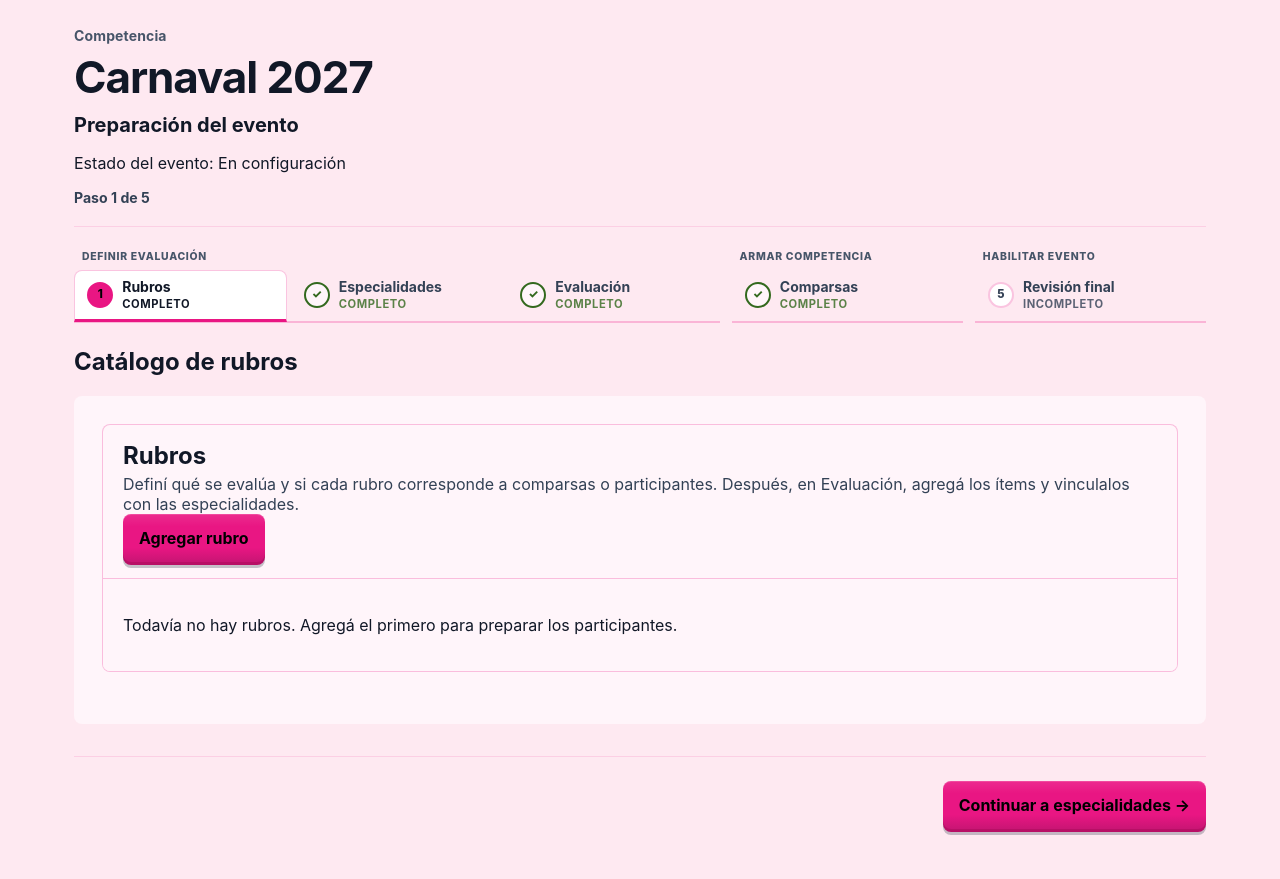
Test: beforeunload solo avisa mientras hay cambios; guardar libera la guardia y conserva POST legado
The width and height of the screenshot is (1280, 879).
Click the button "Agregar rubro" at [194, 538], box [123,514,264,562]
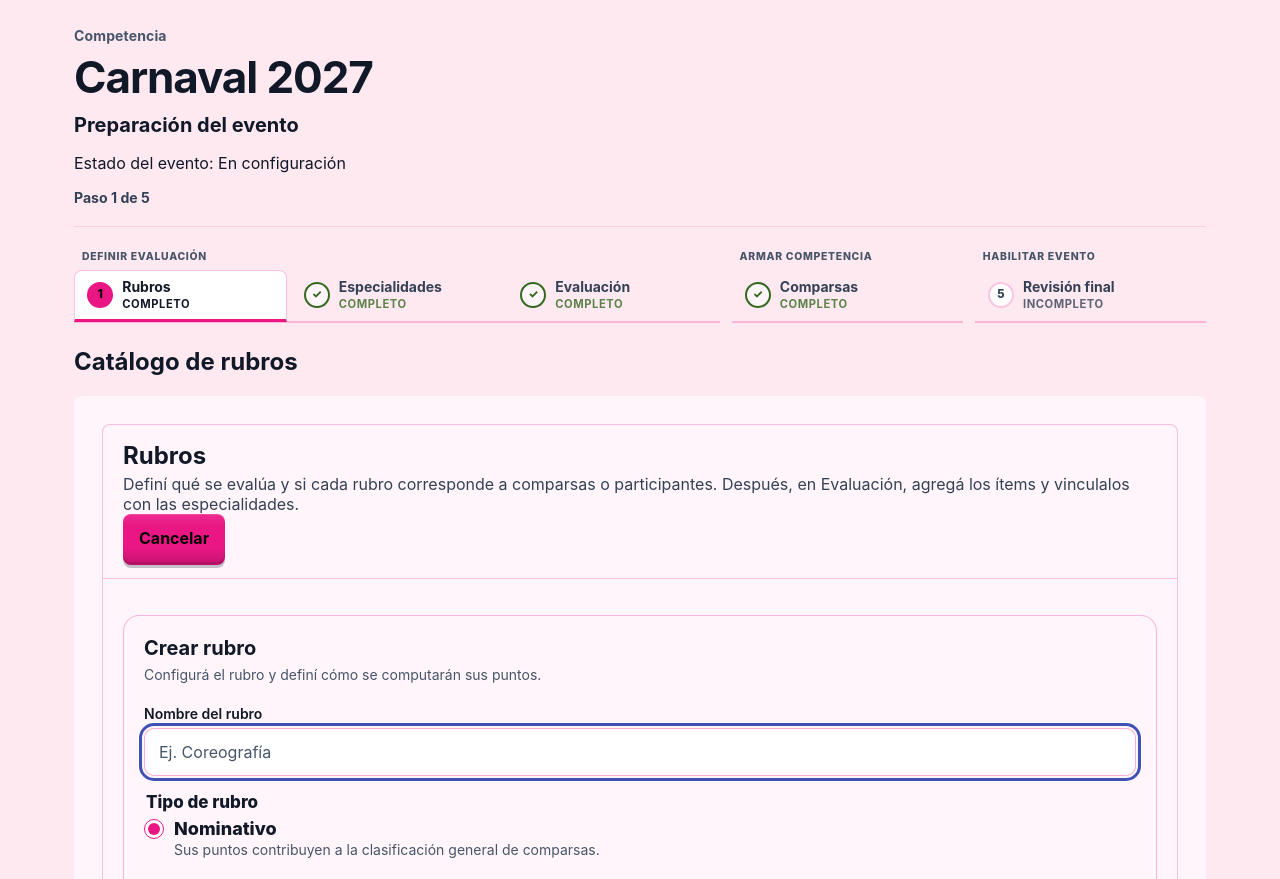
Type "Coreografía" into the field labelled "Nombre del rubro" at [640, 752], box [144,728,1136,776]
(page scrolled)
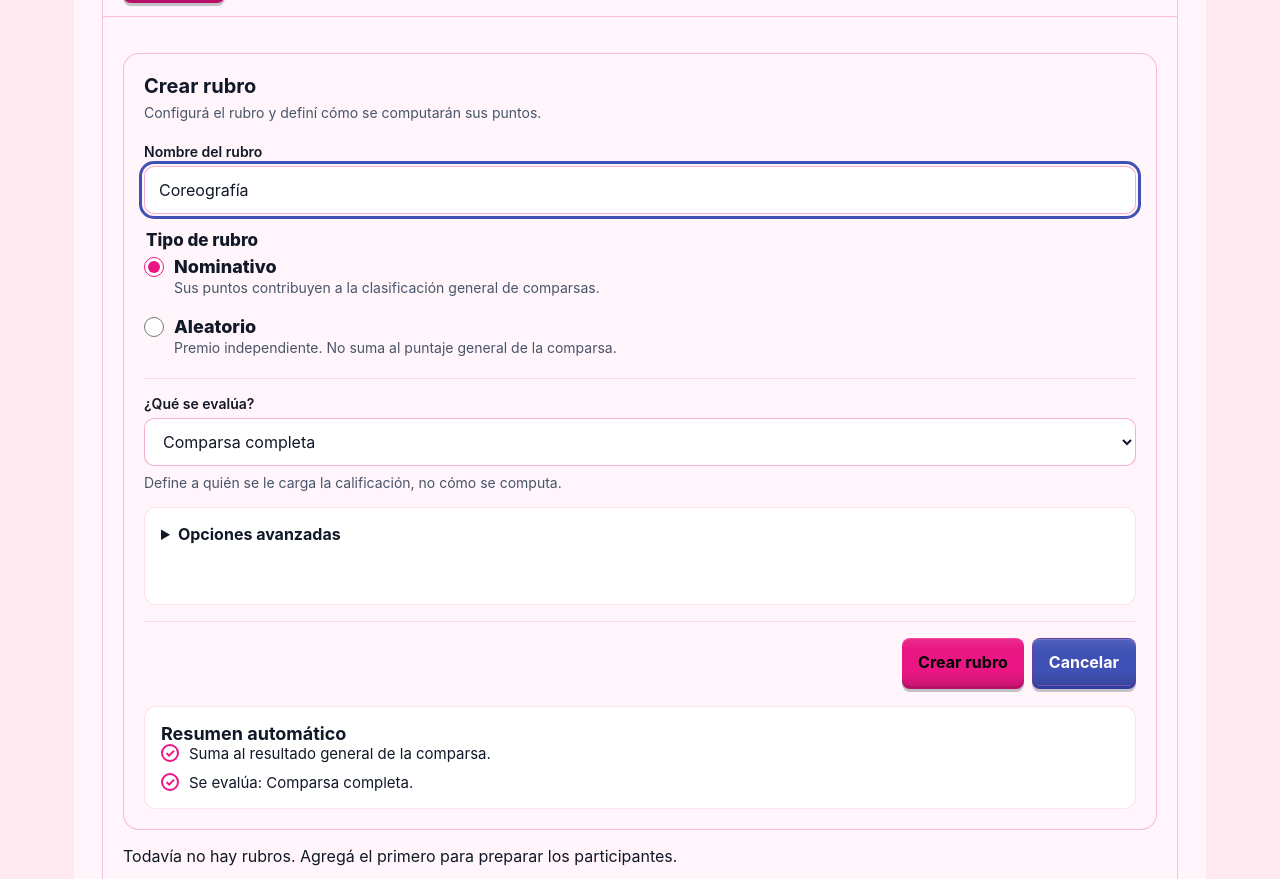
Submit the form "Crear rubro"
(page scrolled)
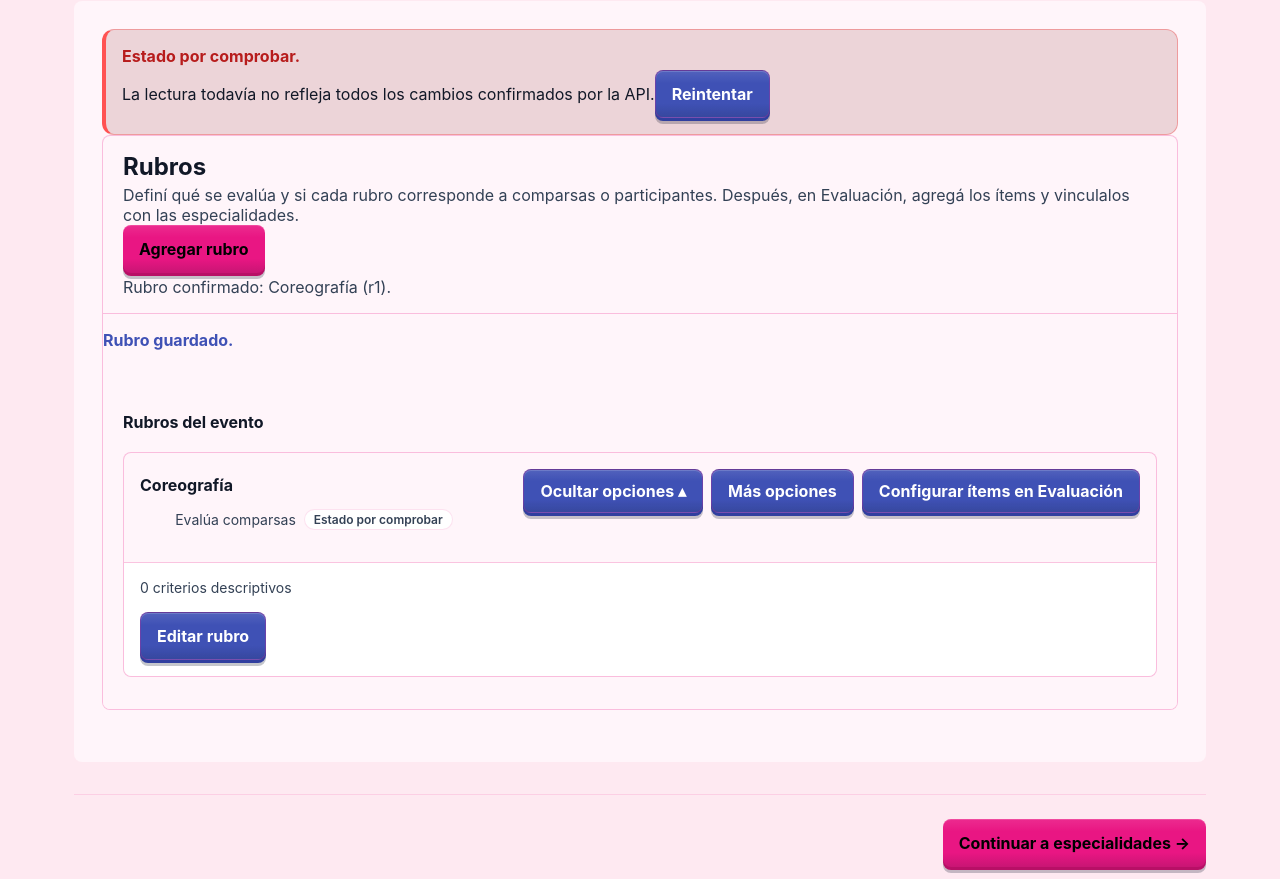
Expected: the text "Rubro confirmado: Coreografía (r1)." is shown, [123,277,391,297]
Expected: the heading "Crear rubro" is gone
